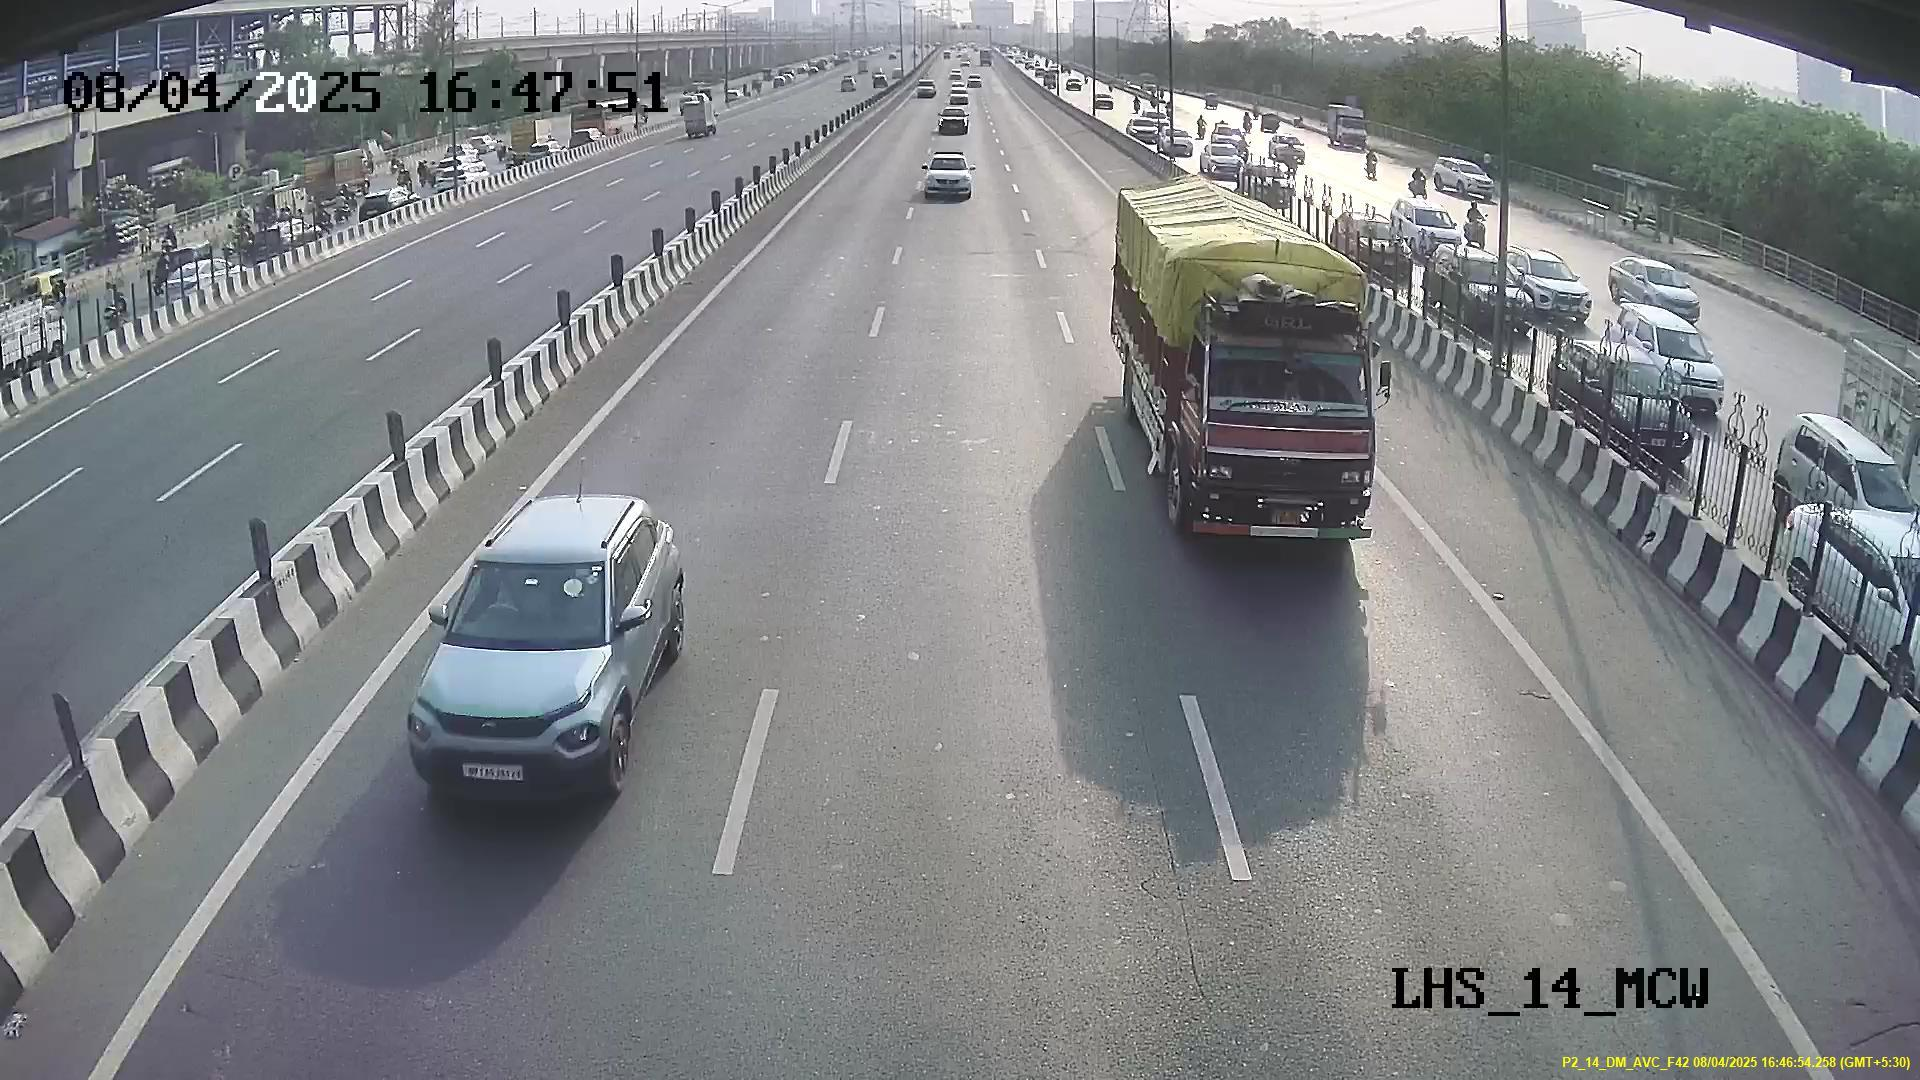car: (401, 521, 647, 794)
lcv: (1150, 282, 1393, 551)
